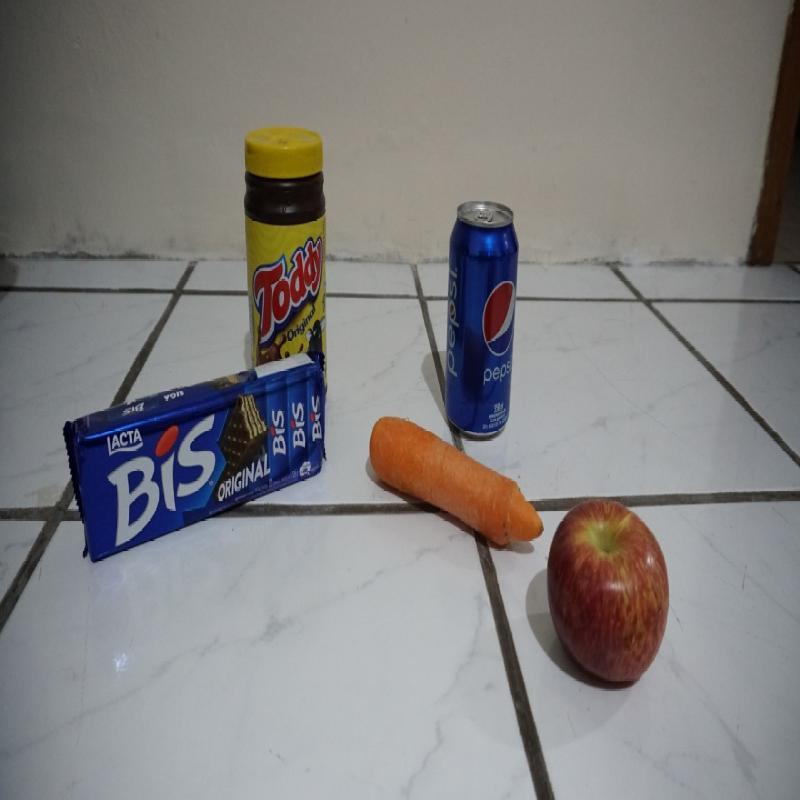Apple: (546, 483, 677, 699)
Carrot: (372, 418, 546, 574)
Chocolate Powder: (239, 129, 329, 353)
Soda can: (442, 196, 518, 404)
